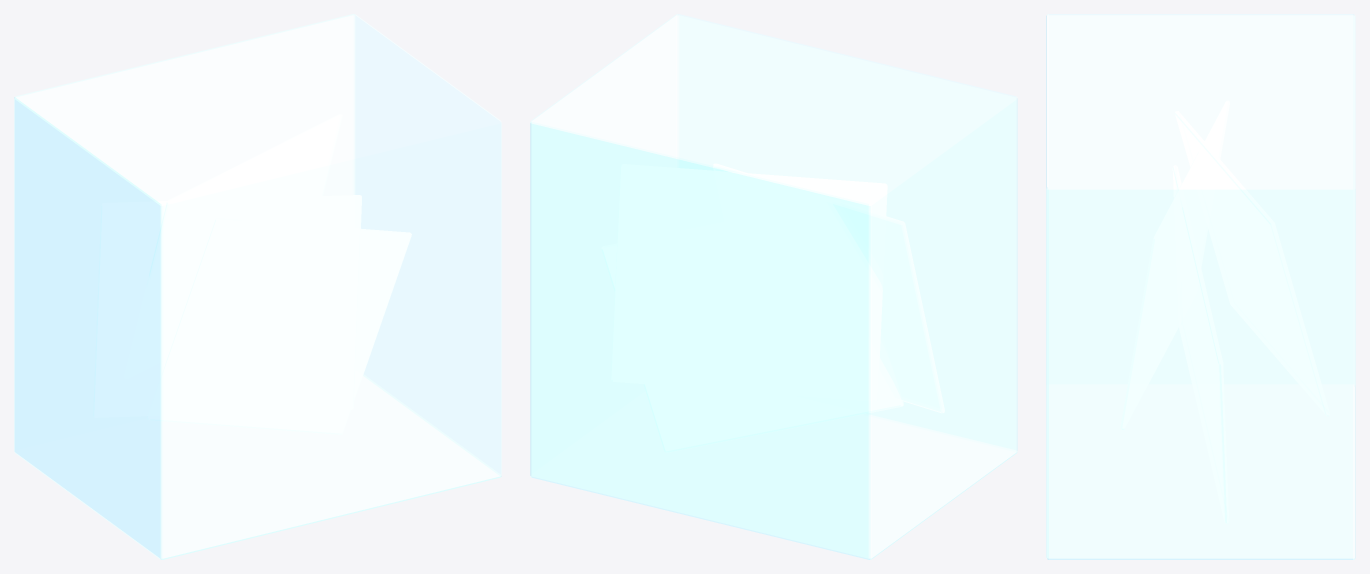
Rendered from ice_block.glb.
The picture shows the model from 3 angles, left to right: view 1: azimuth 30°, elevation 25°; view 2: azimuth 150°, elevation 25°; view 3: azimuth 270°, elevation 25°; orthographic projection. The views are drawn at different scales.
Visible parts, largest first — view 1: IceBlock; view 2: IceBlock; view 3: IceBlock.
Boxes of the visible parts, x1,y1,x2,y2 form: IceBlock: (14,14,501,559); IceBlock: (530,14,1017,559); IceBlock: (1046,14,1355,559).
Size of the model in its own units: 0.8 by 0.803 by 0.6.
